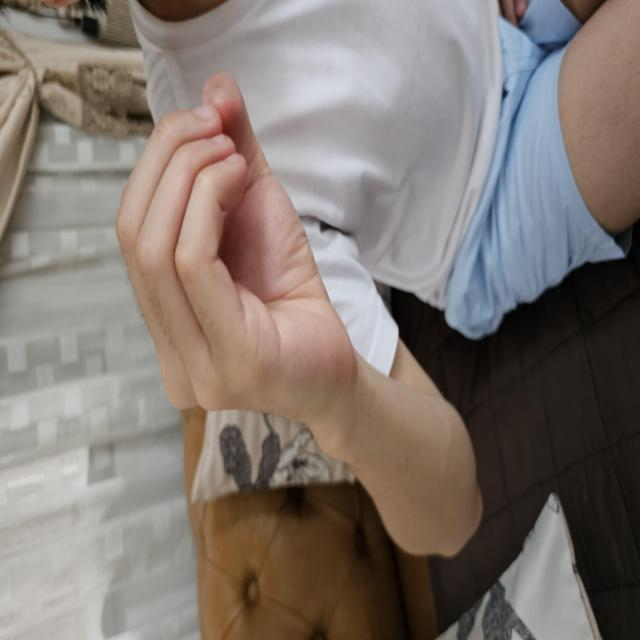O: (77, 59, 392, 460)
